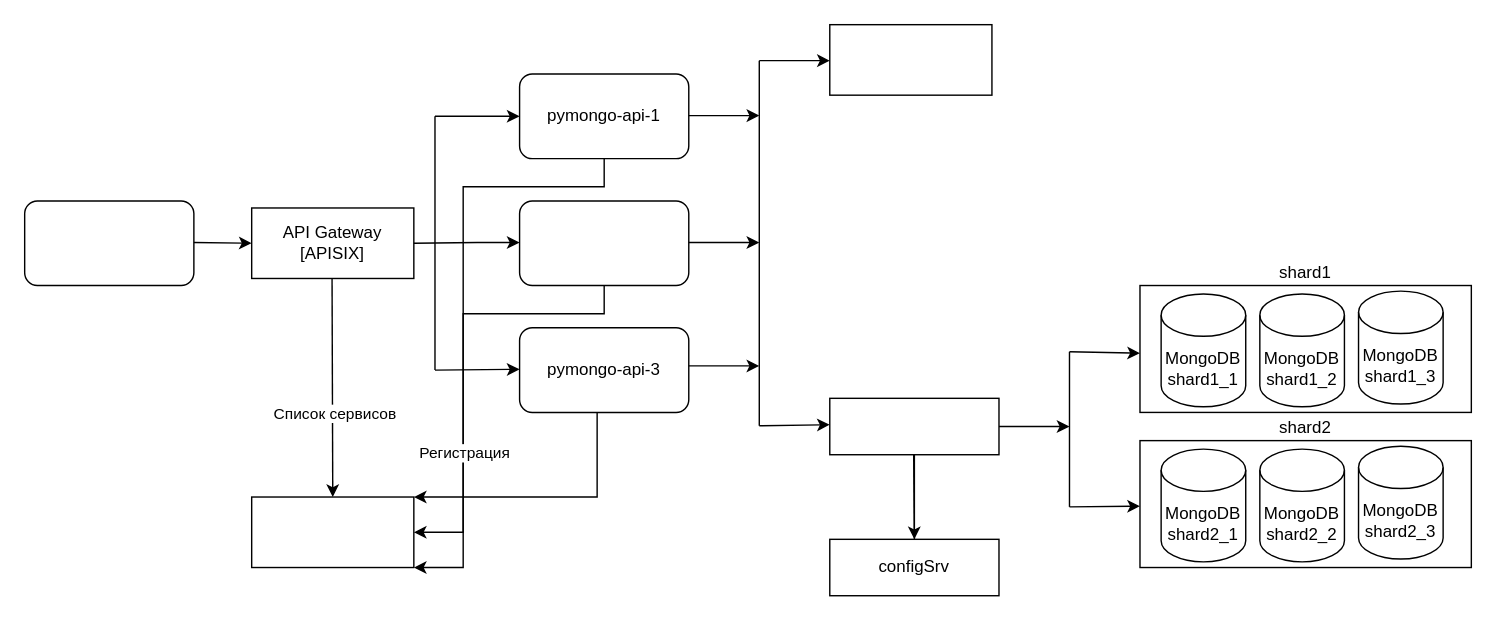
Some shapes in this 1496 by 620 pixel diagram are drawn without their labels. Here are the shapes that lost their labels. From the top down, the box of each, then its label:
(828, 23, 992, 95): Redis cache
(23, 200, 194, 286): Client App
(518, 200, 689, 286): pymongo-api-2
(828, 397, 999, 455): mongos_router
(250, 496, 414, 568): Service Registry [Consul Catalog]
